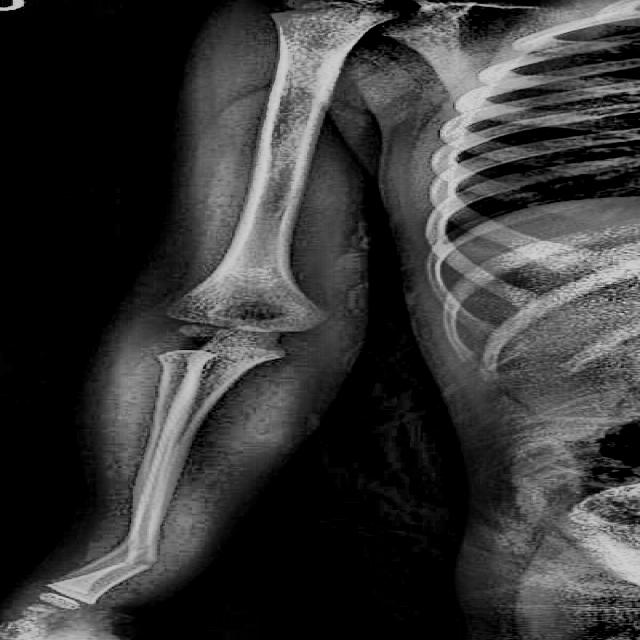angle: (114, 550, 155, 576)
line: (298, 88, 326, 111)
